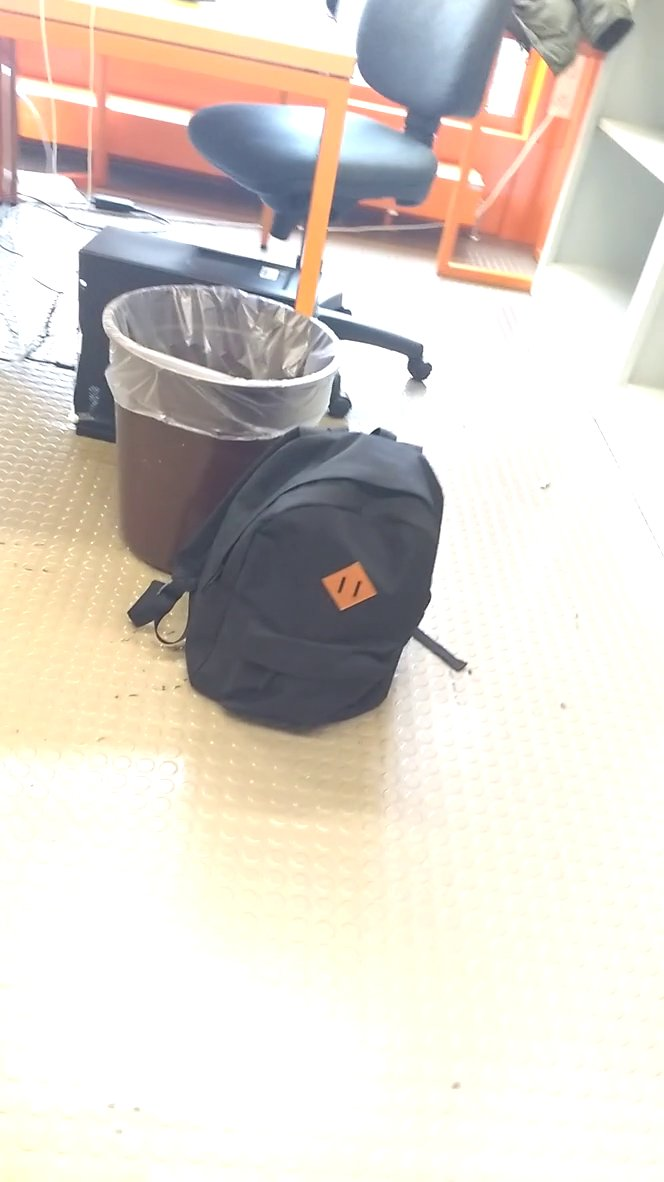bag: (127, 414, 457, 739)
bin: (97, 273, 349, 512)
chair: (184, 2, 536, 412)
